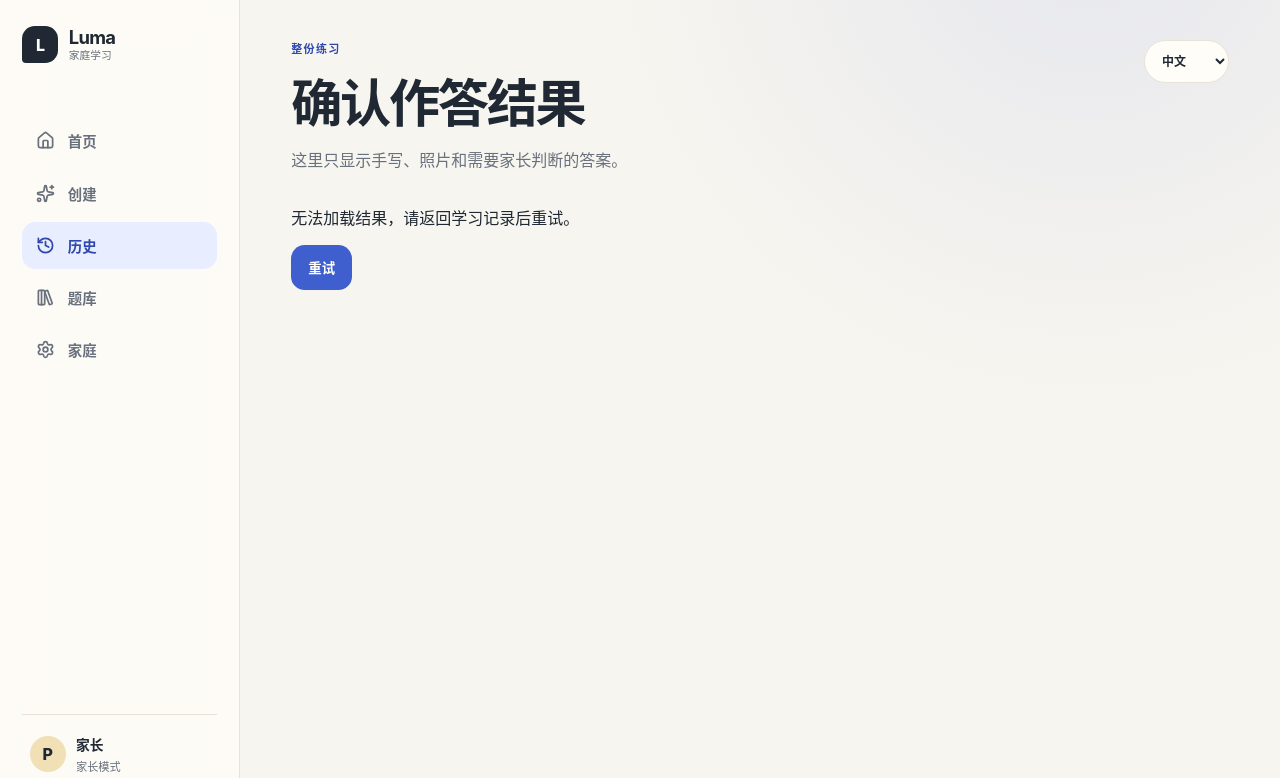
ParentResultsPage › lets a parent retry a temporary review-loading failure
Expected: the text "无法加载结果，请返回学习记录后重试。" is shown, [291,208,579,228]
Step 1. Click the button "重试" → (322, 267), box [291,245,352,290]
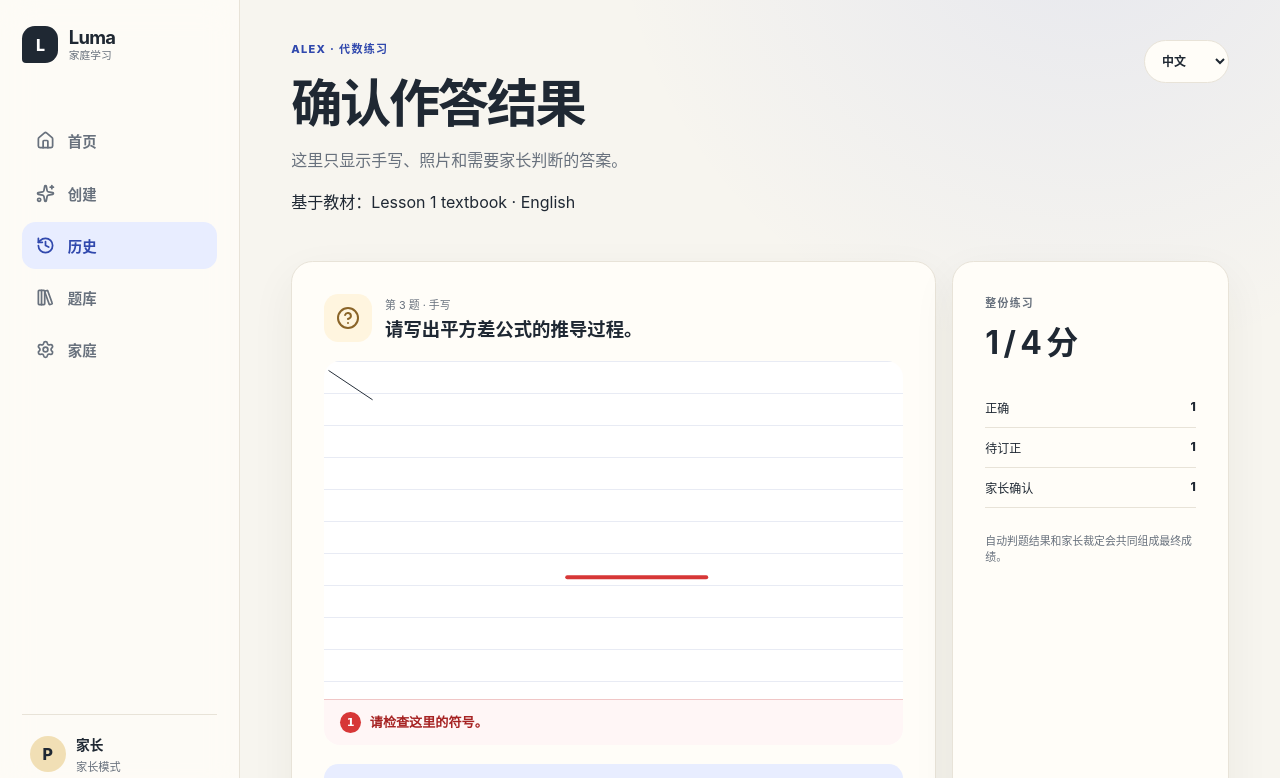
Expected: the heading "请写出平方差公式的推导过程。" is shown, [385,315,642,341]
